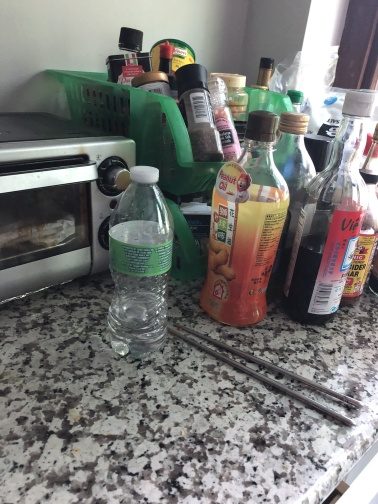bottle: (104, 164, 174, 356)
